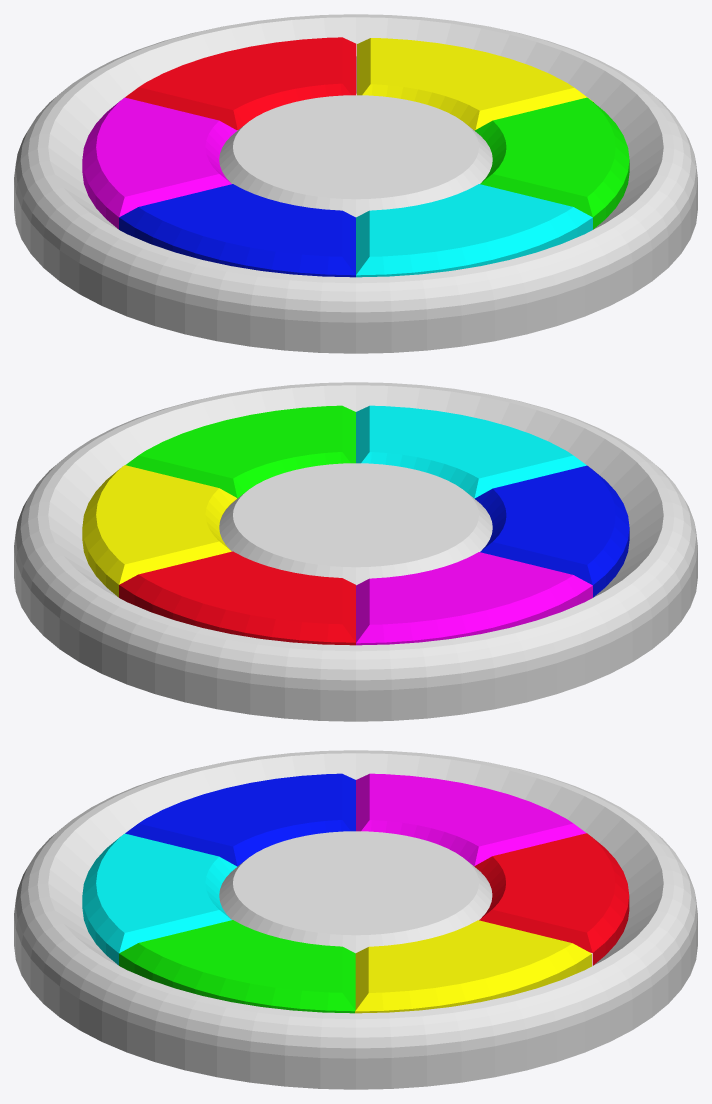
File: UnfairRevengeDisk.fbx
3 views of the same model, one above another, from view 1: azimuth 30°, elevation 25°; view 2: azimuth 150°, elevation 25°; view 3: azimuth 270°, elevation 25° (orthographic).
Visible parts, largest first — view 1: Outer Ring, Inner Ring, Sixth DoughnutBL, Sixth DoughnutBM, Sixth DoughnutTL, Sixth DoughnutBR, Sixth DoughnutTM, Sixth DoughnutTR; view 2: Outer Ring, Inner Ring, Sixth DoughnutTM, Sixth DoughnutTL, Sixth DoughnutTR, Sixth DoughnutBL, Sixth DoughnutBM, Sixth DoughnutBR; view 3: Outer Ring, Inner Ring, Sixth DoughnutBR, Sixth DoughnutTR, Sixth DoughnutTM, Sixth DoughnutBM, Sixth DoughnutBL, Sixth DoughnutTL.
Boxes of the visible parts, x1,y1,x2,y2 form: Outer Ring: [14, 14, 697, 353]; Inner Ring: [219, 95, 492, 217]; Sixth DoughnutBL: [119, 184, 355, 277]; Sixth DoughnutBM: [356, 184, 592, 277]; Sixth DoughnutTL: [82, 97, 236, 229]; Sixth DoughnutBR: [475, 97, 629, 229]; Sixth DoughnutTM: [125, 37, 356, 130]; Sixth DoughnutTR: [357, 38, 593, 130]; Outer Ring: [14, 382, 697, 721]; Inner Ring: [219, 463, 492, 585]; Sixth DoughnutTM: [119, 551, 355, 645]; Sixth DoughnutTL: [356, 552, 592, 645]; Sixth DoughnutTR: [82, 465, 236, 597]; Sixth DoughnutBL: [475, 465, 629, 597]; Sixth DoughnutBM: [356, 405, 586, 498]; Sixth DoughnutBR: [125, 405, 355, 498]; Outer Ring: [14, 750, 697, 1089]; Inner Ring: [219, 831, 492, 953]; Sixth DoughnutBR: [119, 920, 355, 1013]; Sixth DoughnutTR: [355, 920, 591, 1013]; Sixth DoughnutTM: [474, 833, 629, 965]; Sixth DoughnutBM: [82, 833, 236, 965]; Sixth DoughnutBL: [125, 773, 355, 866]; Sixth DoughnutTL: [356, 773, 586, 866].
Bounding box in the file's own units: 250 × 25.16 × 250.
